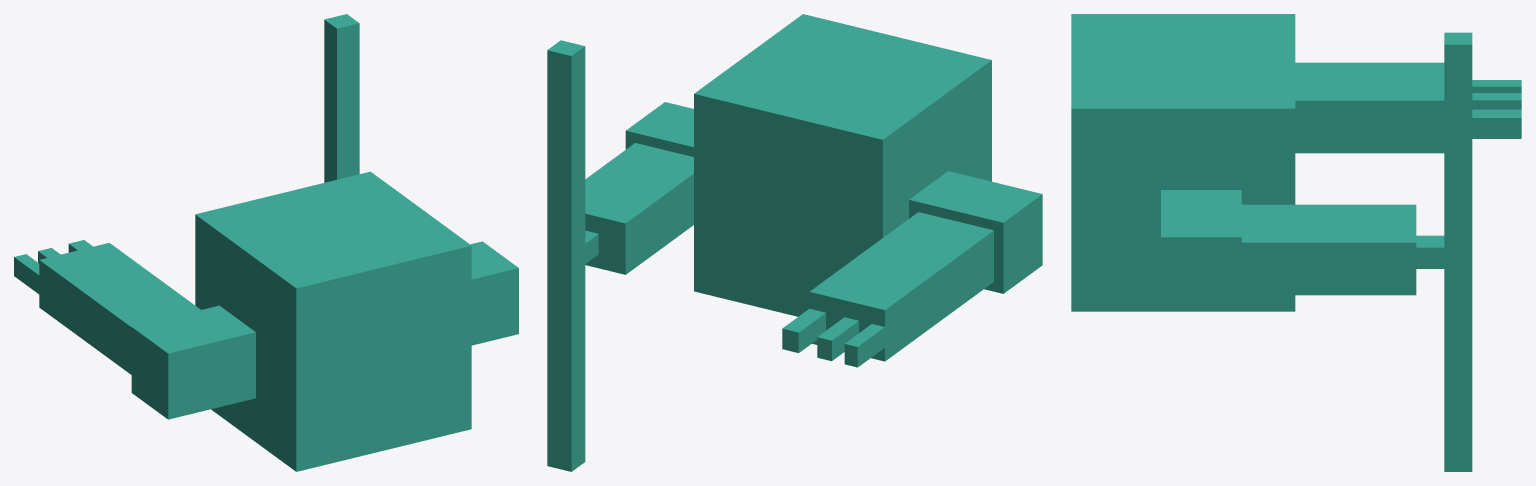
3 renders of one model, left to right at view 1: azimuth 30°, elevation 25°; view 2: azimuth 150°, elevation 25°; view 3: azimuth 270°, elevation 25°, orthographic. The views are drawn at different scales.
Parts seen in each view (by area): view 1: Cube; view 2: Cube; view 3: Cube.
Boxes of the visible parts, x1,y1,x2,y2 form: Cube: (14, 14, 518, 471); Cube: (547, 14, 1042, 471); Cube: (1071, 14, 1521, 471).
Size of the model in its own units: 4 by 4.21 by 4.02.
